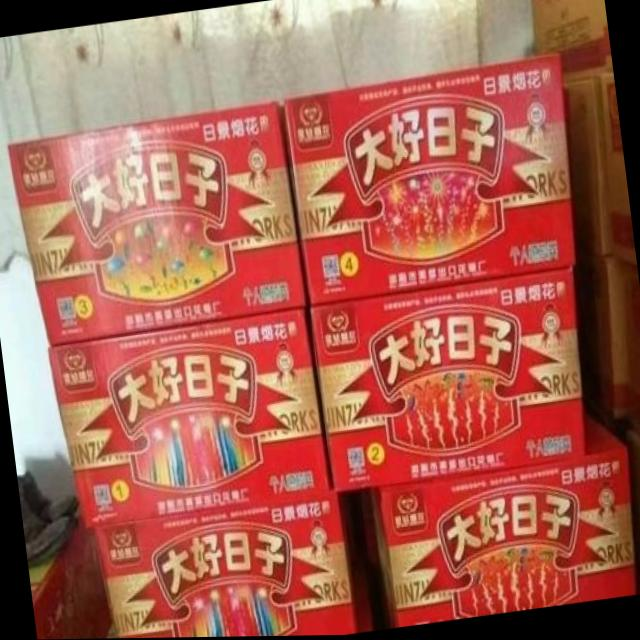box: (281, 53, 574, 306), (7, 102, 306, 347), (47, 308, 329, 528), (310, 269, 585, 492), (359, 410, 637, 627), (90, 492, 371, 639), (576, 244, 634, 421), (563, 79, 610, 258), (529, 0, 612, 85), (601, 77, 636, 268), (625, 270, 640, 438), (628, 432, 640, 595)
